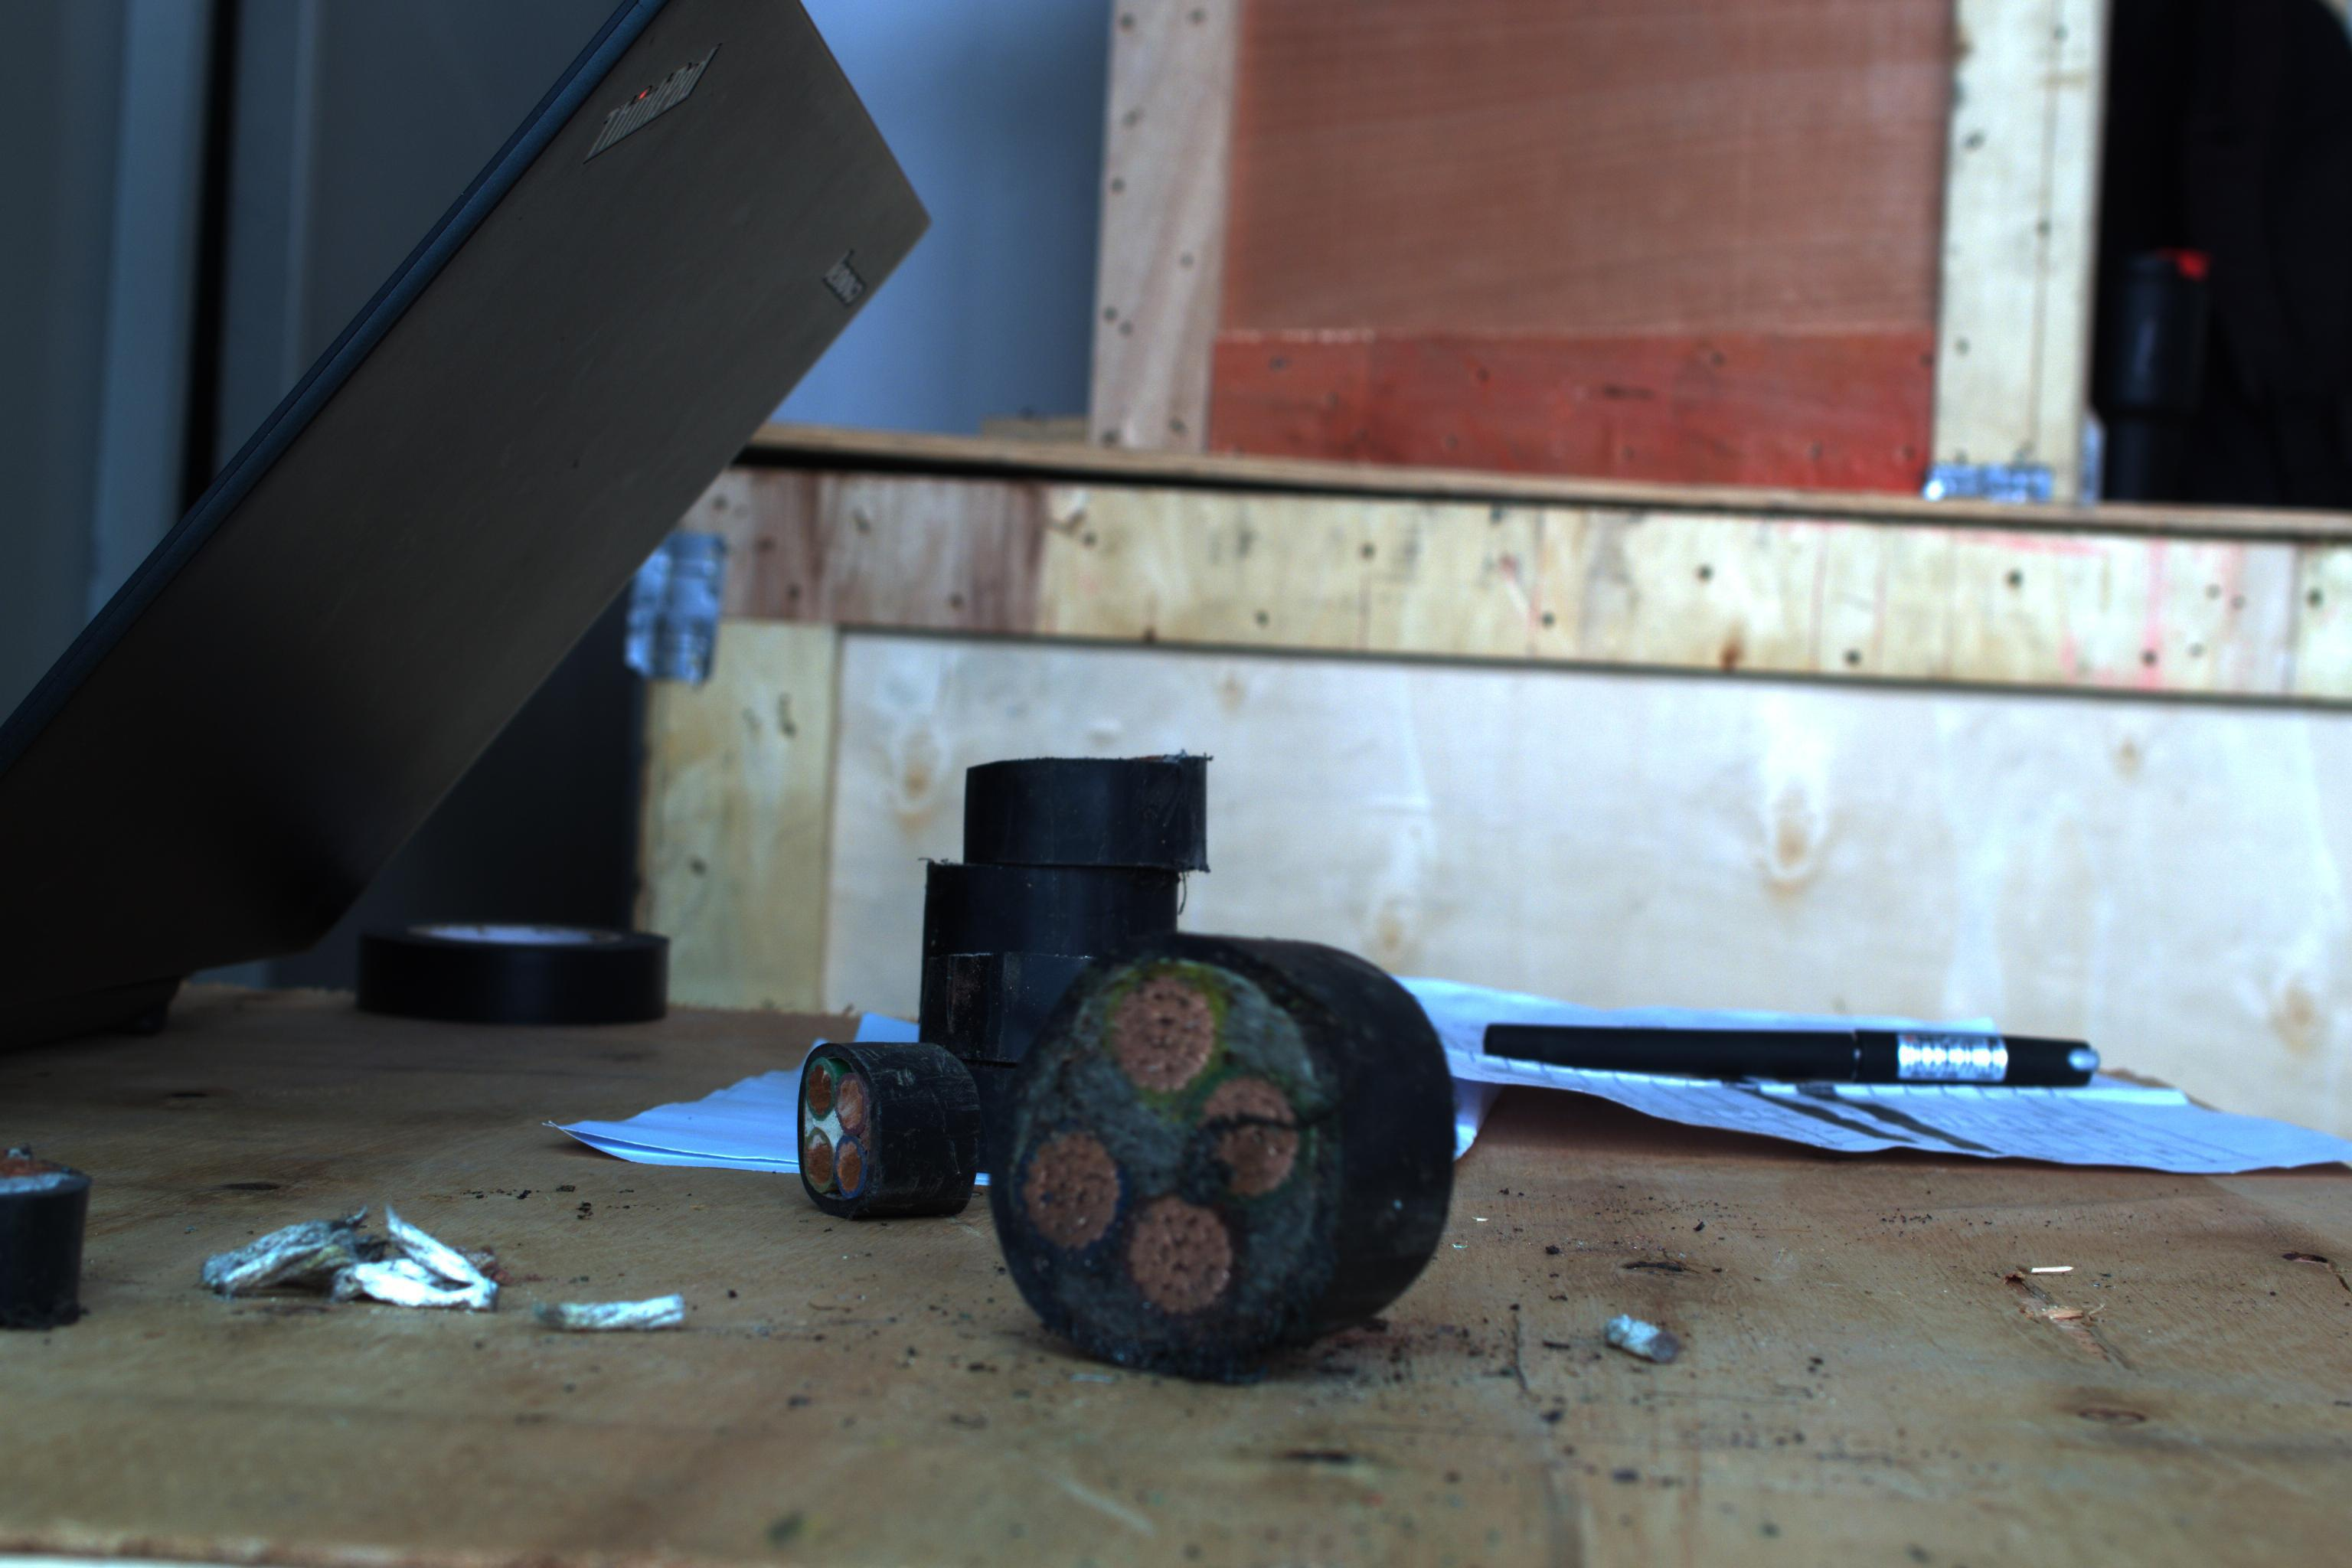YJV_0.6_1kV_4x120: (1003, 940, 1342, 1340)
